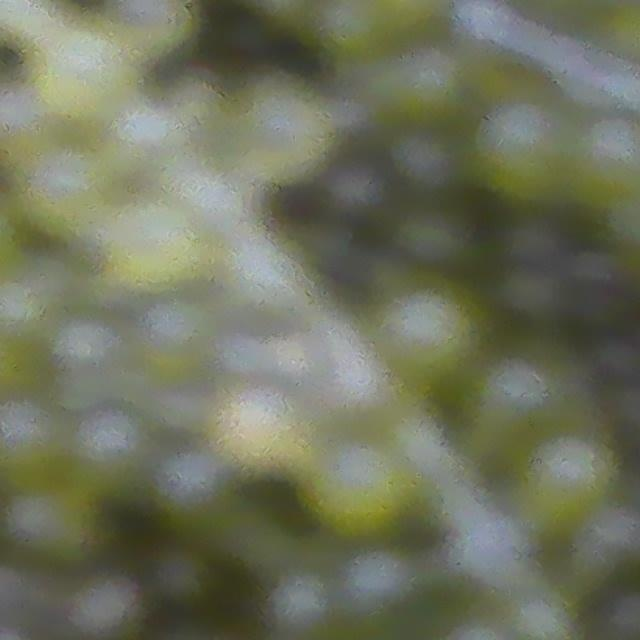SeaGrape: (372, 273, 487, 384), (304, 433, 418, 544), (474, 95, 577, 206), (35, 20, 129, 118), (107, 203, 207, 293), (377, 42, 470, 130), (465, 354, 556, 443), (530, 431, 619, 518), (71, 407, 148, 494), (395, 201, 478, 276), (571, 115, 640, 204), (389, 123, 465, 198), (0, 395, 66, 479), (143, 294, 215, 365), (313, 0, 393, 62), (341, 547, 415, 614), (107, 0, 190, 55), (53, 312, 122, 370)
